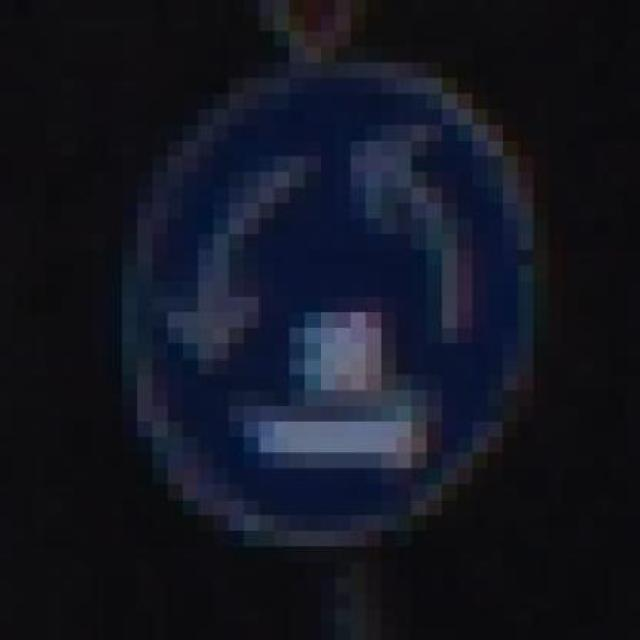Round-About: (76, 47, 579, 593)
